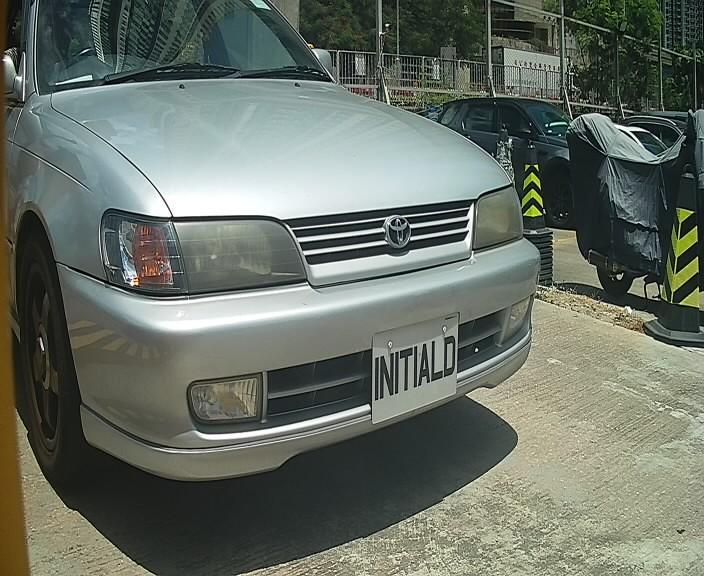License Plate: (359, 317, 475, 427)
